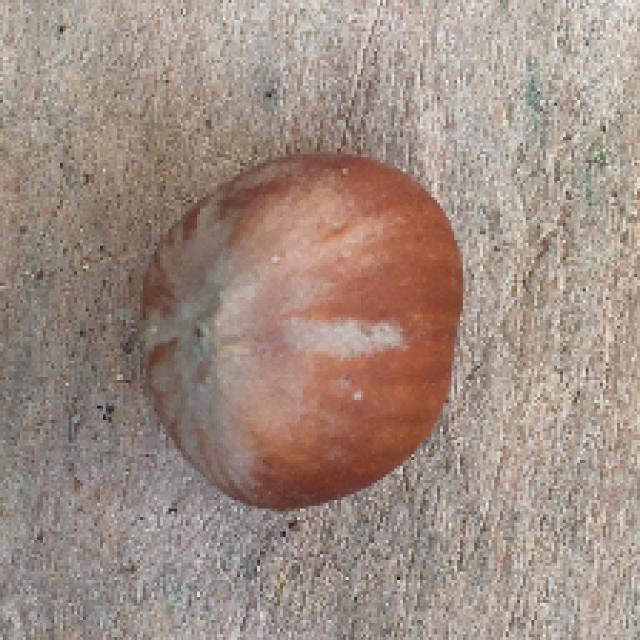qualityHazelnut: (129, 148, 464, 499)
